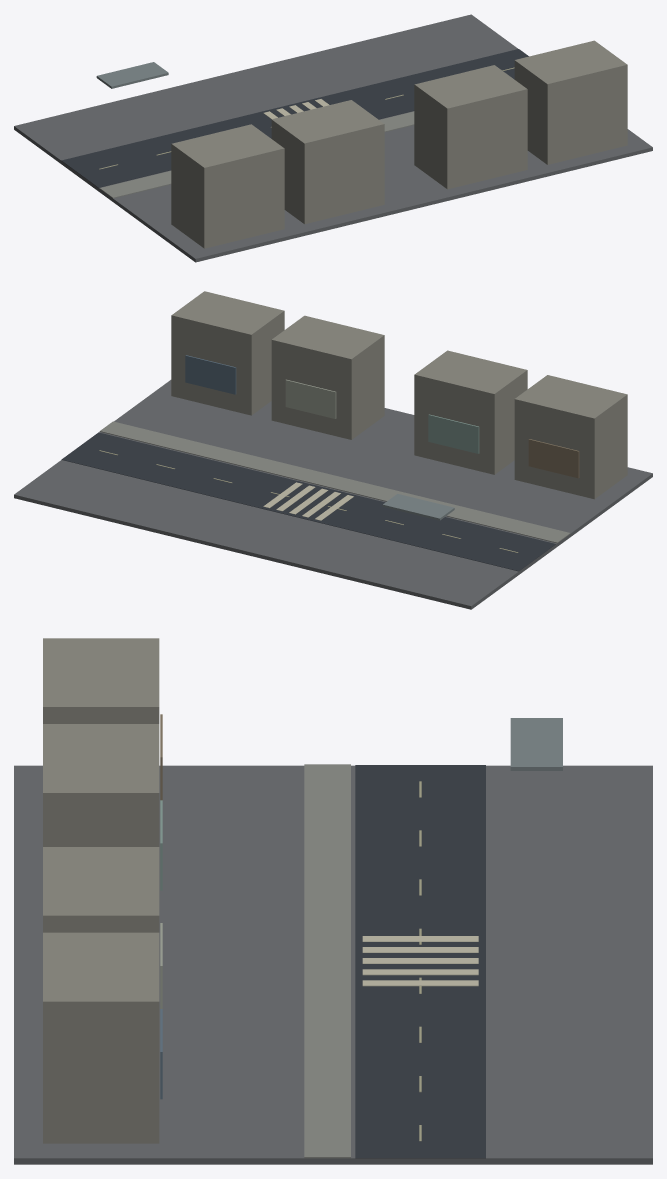
File: rutaArchivo.obj
3 views of the same model, one above another, from view 1: azimuth 30°, elevation 25°; view 2: azimuth 150°, elevation 25°; view 3: azimuth 270°, elevation 25° (orthographic). The views are drawn at different scales.
Parts seen in each view (by area): view 1: Suelo, Edificio_FERRETERÍA, Edificio_ARCHIVO, Edificio_ELECTRÓNICA, Edificio_FARMACIA, Calle, Acera, Marquesina; view 2: Suelo, Calle, Edificio_FERRETERÍA, Edificio_ARCHIVO, Edificio_ELECTRÓNICA, Edificio_FARMACIA, Acera, Escaparate, Paso_peatonal, Marquesina; view 3: Suelo, Calle, Edificio_ELECTRÓNICA, Acera, Edificio_FARMACIA, Edificio_FERRETERÍA, Edificio_ARCHIVO, Paso_peatonal, Marquesina, Escaparate.
Part boxes in pixels (bbox=[...]): Suelo: bbox=[14, 14, 652, 262]; Edificio_FERRETERÍA: bbox=[171, 124, 284, 248]; Edificio_ARCHIVO: bbox=[414, 65, 527, 189]; Edificio_ELECTRÓNICA: bbox=[514, 40, 627, 164]; Edificio_FARMACIA: bbox=[271, 100, 384, 224]; Calle: bbox=[61, 49, 528, 187]; Acera: bbox=[99, 111, 414, 198]; Marquesina: bbox=[96, 62, 168, 88]; Suelo: bbox=[14, 380, 652, 609]; Calle: bbox=[61, 432, 555, 571]; Edificio_FERRETERÍA: bbox=[514, 375, 627, 499]; Edificio_ARCHIVO: bbox=[271, 315, 384, 439]; Edificio_ELECTRÓNICA: bbox=[171, 291, 284, 415]; Edificio_FARMACIA: bbox=[414, 350, 527, 474]; Acera: bbox=[99, 421, 570, 543]; Escaparate: bbox=[185, 355, 579, 478]; Paso_peatonal: bbox=[263, 482, 353, 520]; Marquesina: bbox=[382, 494, 454, 520]; Suelo: bbox=[14, 765, 652, 1164]; Calle: bbox=[355, 765, 485, 1158]; Edificio_ELECTRÓNICA: bbox=[43, 932, 159, 1143]; Acera: bbox=[304, 764, 350, 1158]; Edificio_FARMACIA: bbox=[43, 724, 159, 846]; Edificio_FERRETERÍA: bbox=[43, 638, 159, 723]; Edificio_ARCHIVO: bbox=[43, 847, 159, 932]; Paso_peatonal: bbox=[362, 936, 478, 986]; Marquesina: bbox=[510, 718, 562, 770]; Escaparate: bbox=[160, 714, 162, 1099].
Size of the model in its own units: 32 by 5.64 by 22.
